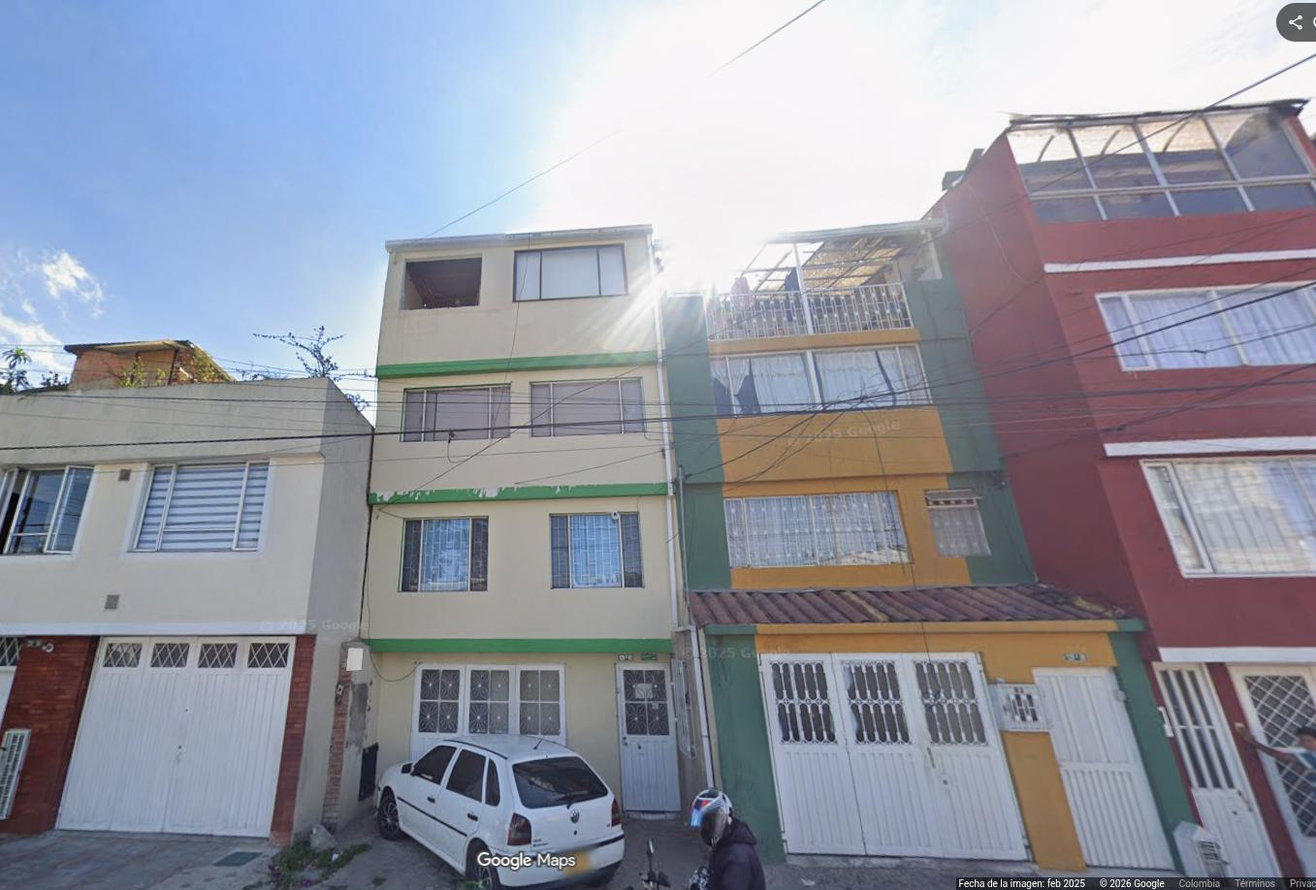casa: (664, 222, 1172, 869), (927, 100, 1315, 874), (362, 228, 708, 814), (0, 340, 369, 842)
